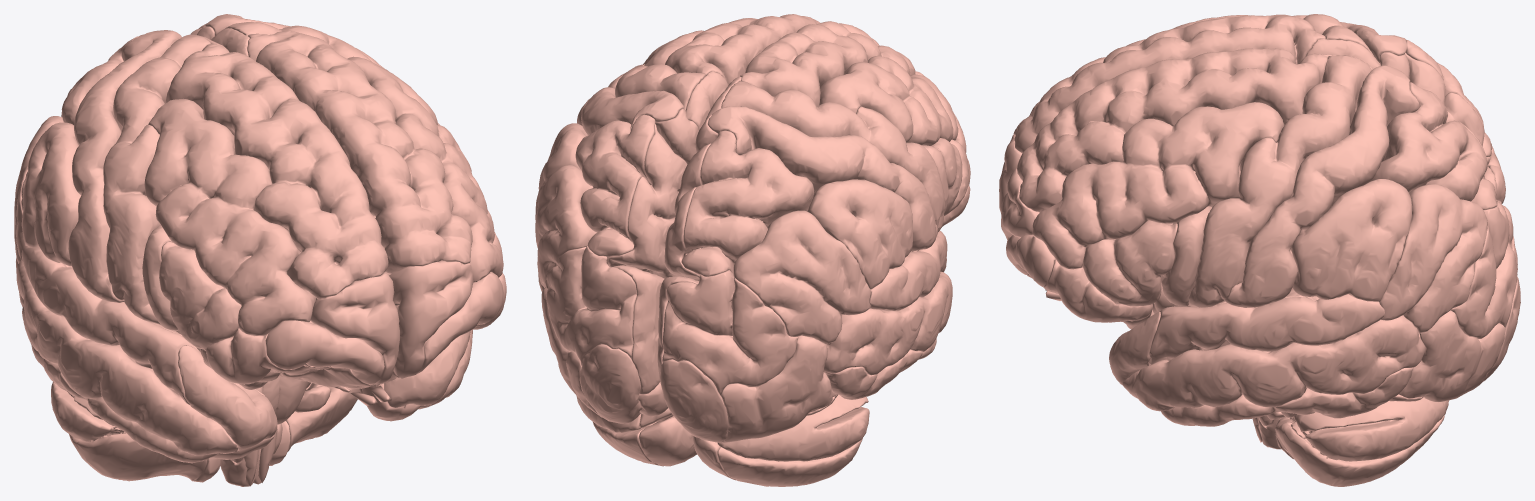
The model's file is brain.glb.
The picture shows the model from 3 angles, left to right: view 1: azimuth 30°, elevation 25°; view 2: azimuth 150°, elevation 25°; view 3: azimuth 270°, elevation 25°; orthographic projection. The views are drawn at different scales.
Parts seen in each view (by area): view 1: Allen_olfactory_bulb_L; view 2: Allen_olfactory_bulb_L; view 3: Allen_olfactory_bulb_L.
Boxes of the visible parts, box(x1,y1,x2,y2) form: Allen_olfactory_bulb_L: box(14, 14, 506, 486); Allen_olfactory_bulb_L: box(535, 14, 970, 486); Allen_olfactory_bulb_L: box(999, 14, 1520, 486).
Size of the model in its own units: 0.1364 by 0.1461 by 0.167.
